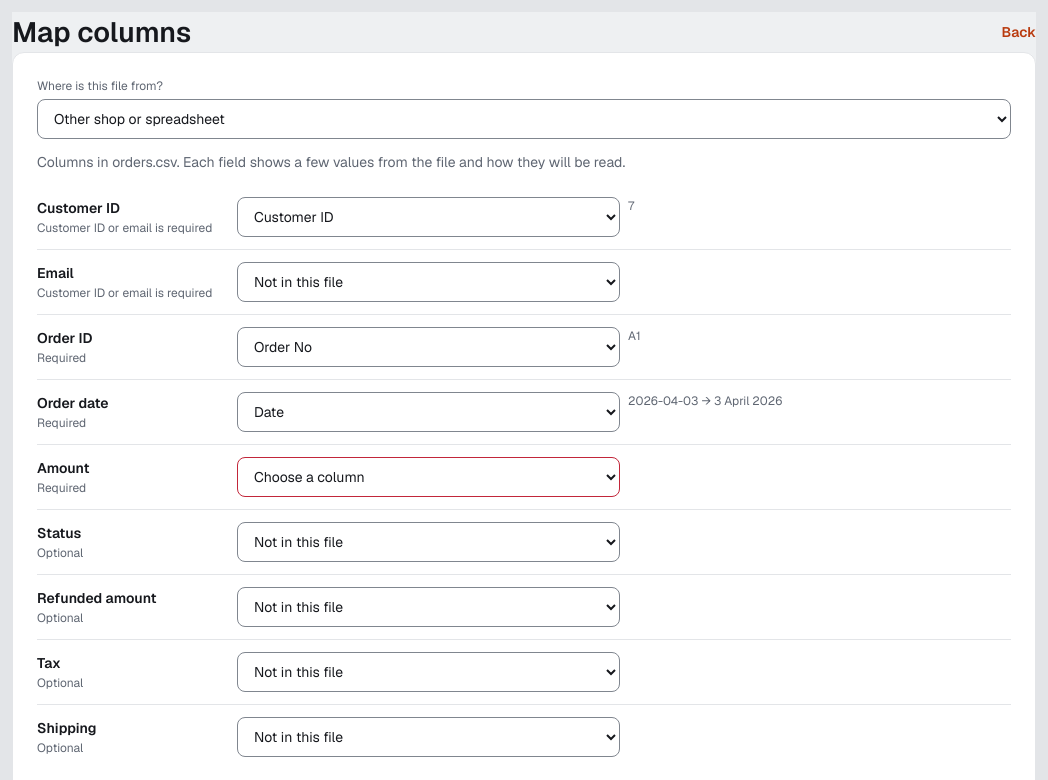
Test case: MapScreen › detects the decimal separator again when the amount column is picked by hand
The image size is (1048, 780).
Select "Paid" in the dropdown labelled "Amount" at (428, 477), box x1=237 y1=457 x2=620 y2=497
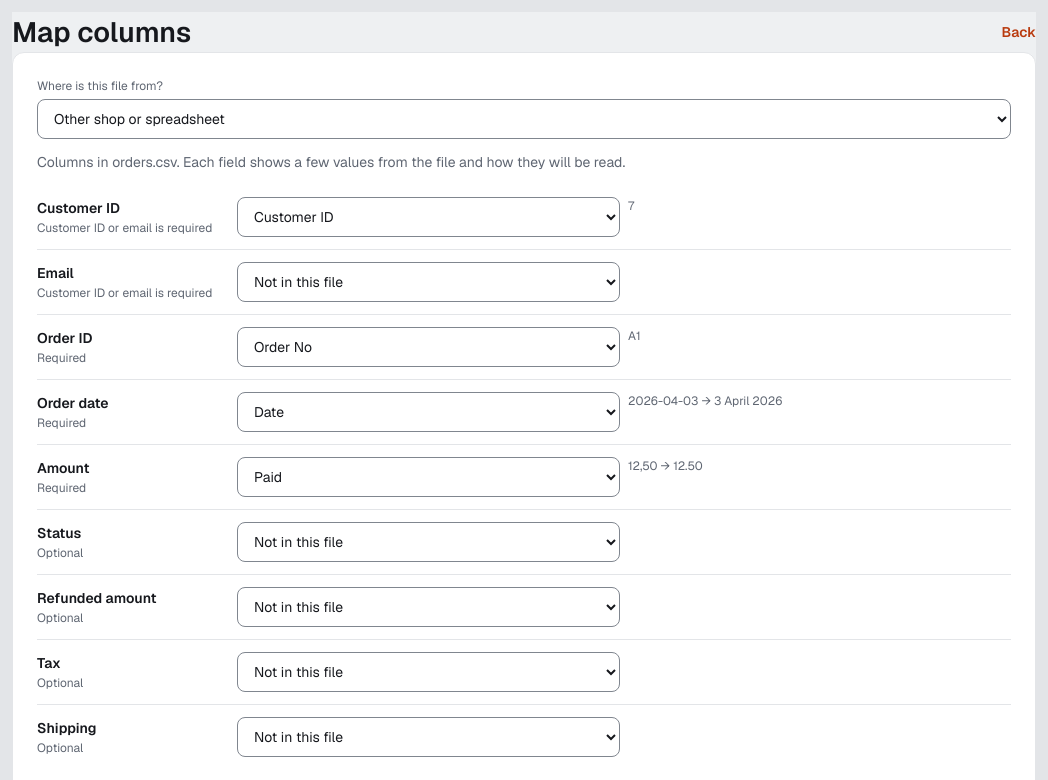
Now the element with test id "field-amount" shows "12,50 → 12.50", box x1=628 y1=458 x2=703 y2=474
